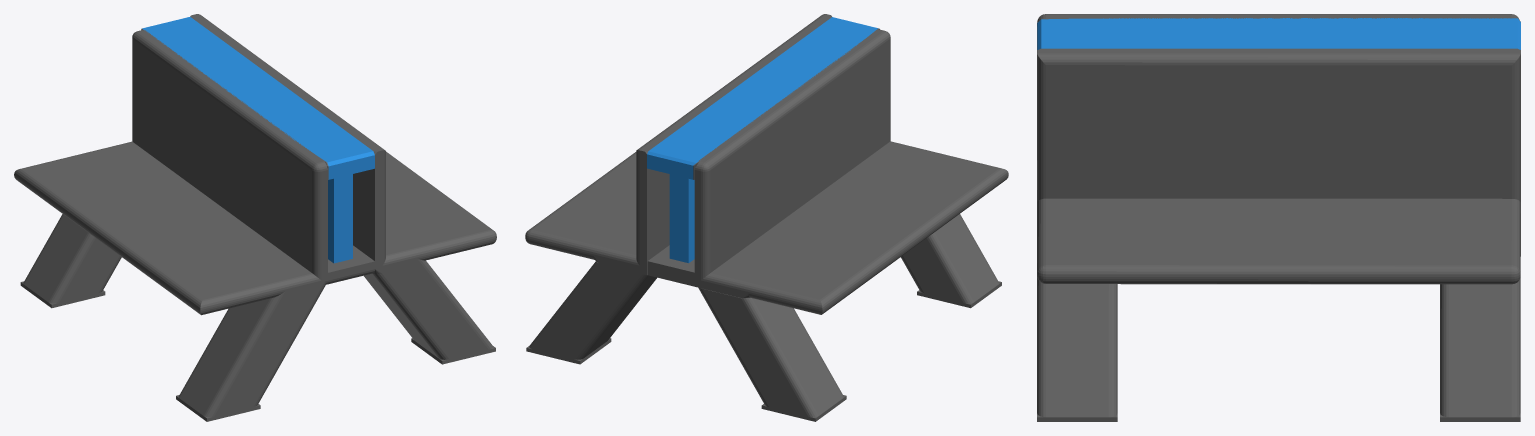
The model's file is stonebench.fbx.
3 renders of one model, left to right at view 1: azimuth 30°, elevation 25°; view 2: azimuth 150°, elevation 25°; view 3: azimuth 270°, elevation 25°, orthographic. The views are drawn at different scales.
Parts seen in each view (by area): view 1: Cube; view 2: Cube; view 3: Cube.
Part boxes in pixels (x1,y1,x2,y2): Cube: (14,14,496,421); Cube: (525,14,1008,421); Cube: (1037,14,1520,421).
Size of the model in its own units: 891 by 650 by 961.
